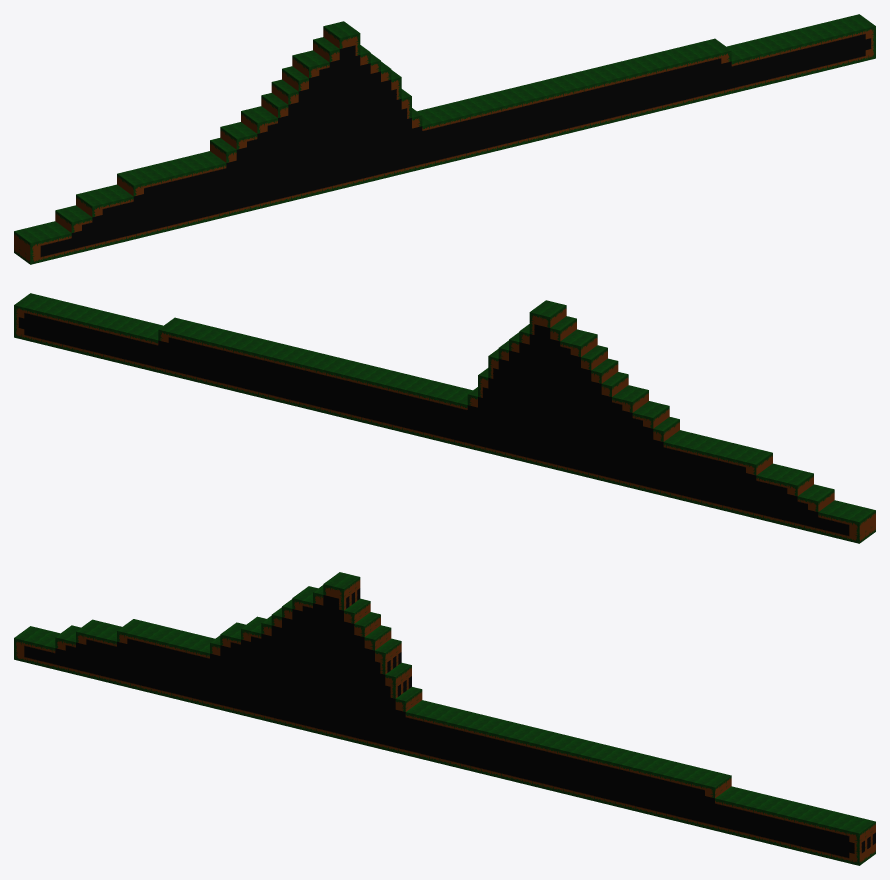
Rendered from Luna0RainbowSolo.glb.
3 views of the same model, one above another, from view 1: azimuth 30°, elevation 25°; view 2: azimuth 150°, elevation 25°; view 3: azimuth 330°, elevation 25° (orthographic).
Visible parts, largest first — view 1: Setor_0, Setor_1, Setor_2; view 2: Setor_0, Setor_1, Setor_2; view 3: Setor_0, Setor_1, Setor_2.
Boxes of the visible parts, x1,y1,x2,y2 form: Setor_0: (14,21,360,264); Setor_1: (360,45,690,184); Setor_2: (674,14,875,103); Setor_0: (529,300,875,543); Setor_1: (199,324,529,463); Setor_2: (14,293,215,382); Setor_0: (14,572,359,739); Setor_1: (344,577,689,820); Setor_2: (674,765,875,865).
Bounding box in the file's own units: 85.28 × 14.56 × 2.88.
Materials: 1 (1 with a texture image).
